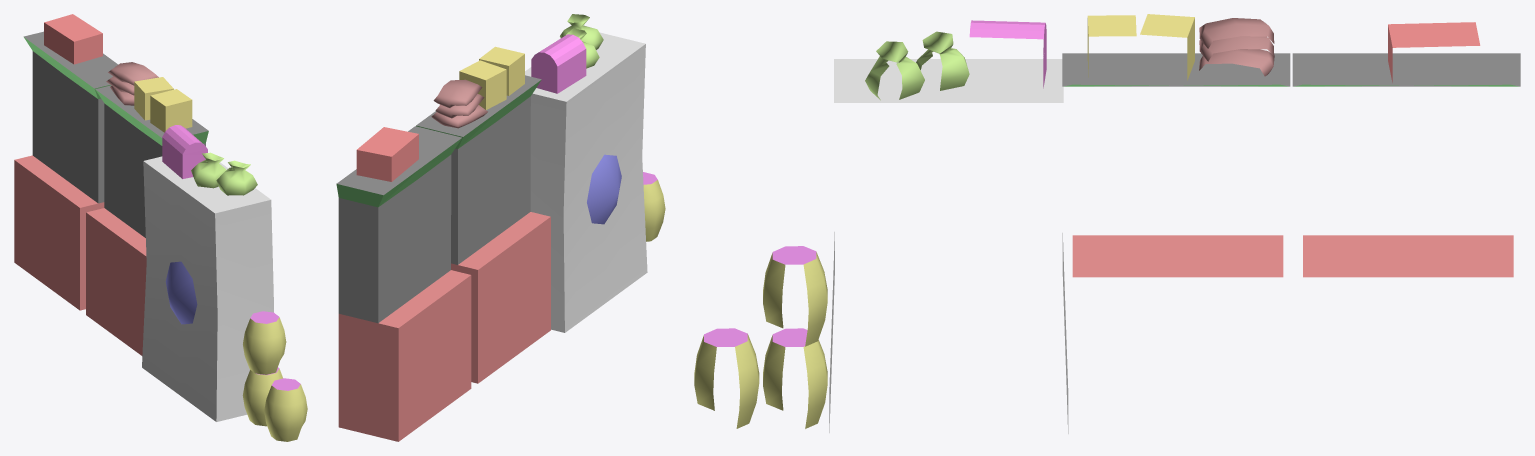
File: interior_Aa_s__booxx.gltf
3 views of the same model, side by side, from view 1: azimuth 30°, elevation 25°; view 2: azimuth 150°, elevation 25°; view 3: azimuth 270°, elevation 25° (orthographic). The views are drawn at different scales.
Visible parts, largest first — view 1: booxx; view 2: booxx; view 3: booxx.
Part boxes in pixels (x1,y1,x2,y2): booxx: (14, 14, 307, 441); booxx: (336, 14, 665, 441); booxx: (694, 14, 1520, 433).
Bounding box in the file's own units: 0.404 × 1.27 × 2.37.
